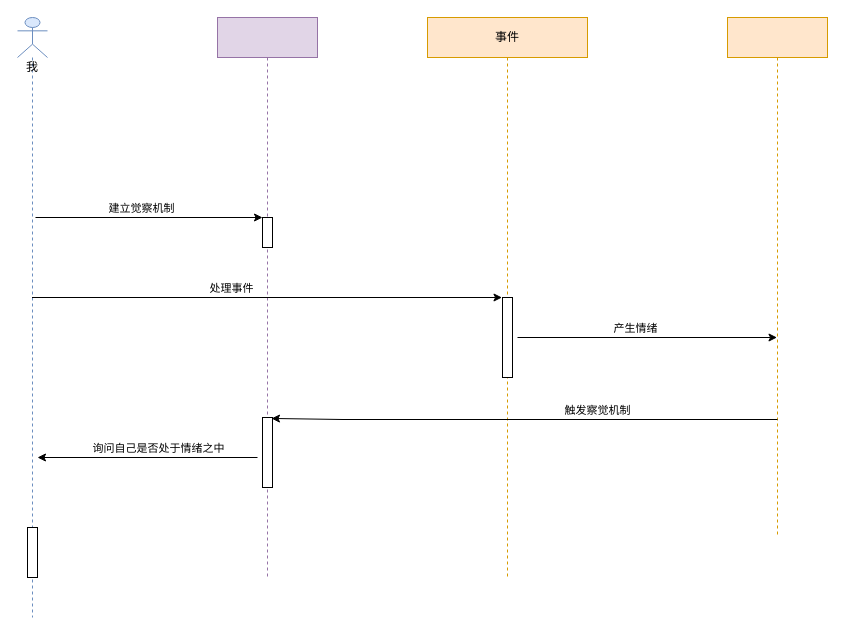
This 845x635 diagram has some shape labels left out. Each missing label, with the box of its shape:
情绪: (726, 16, 828, 538)
觉察机制: (216, 16, 318, 578)
